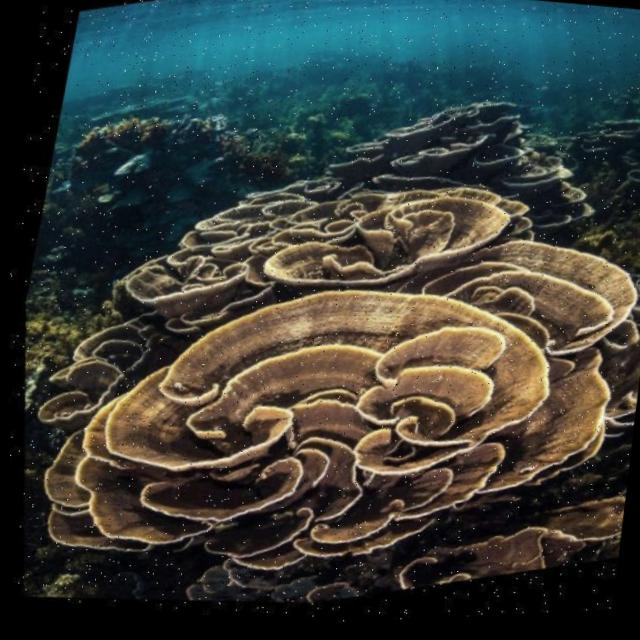Healthy Coral: (2, 93, 640, 640)
